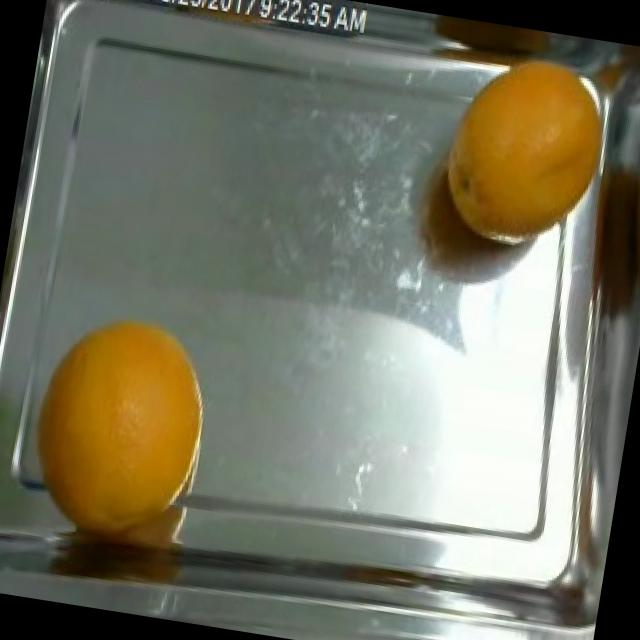Fruit: (410, 28, 617, 278)
